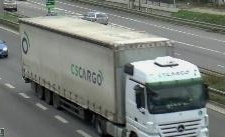truck: (20, 17, 209, 137)
